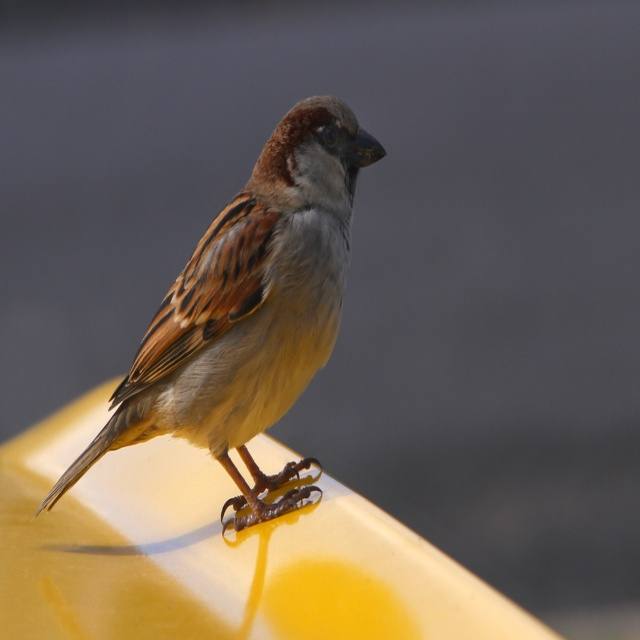Sparrow: (35, 92, 386, 538)
